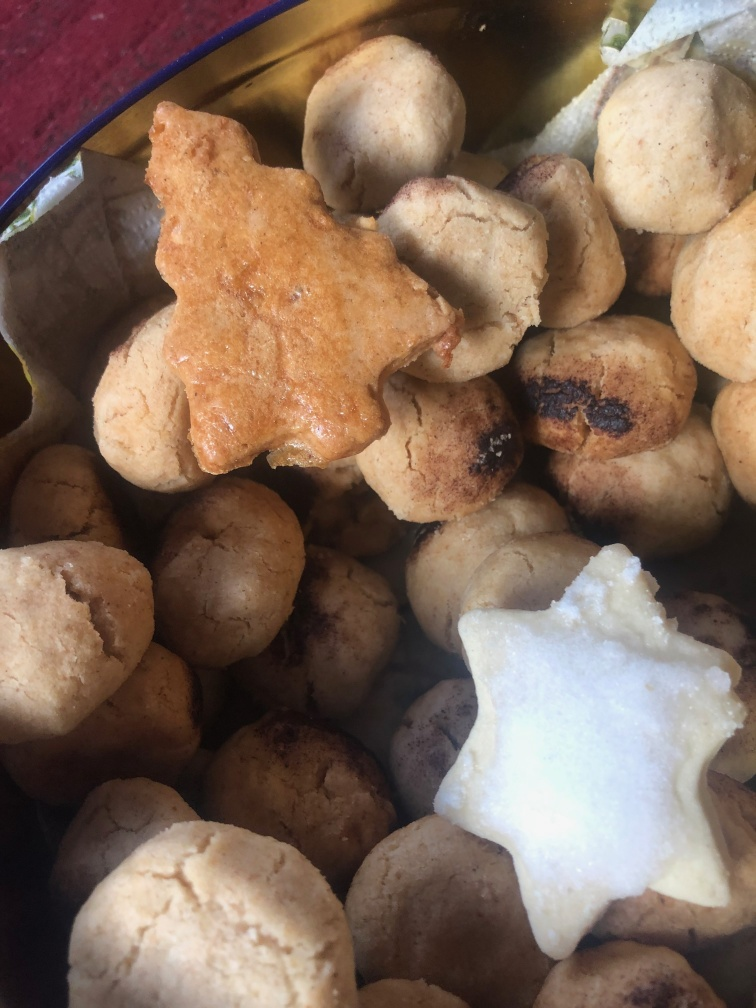christmas tree: (144, 93, 457, 485)
snowball: (66, 815, 356, 1008), (346, 803, 547, 1000), (202, 711, 404, 873), (380, 177, 540, 368), (1, 540, 155, 731), (155, 474, 305, 668), (596, 55, 755, 233), (302, 36, 461, 211), (525, 309, 686, 460), (363, 377, 517, 524)
star: (435, 535, 746, 965)
